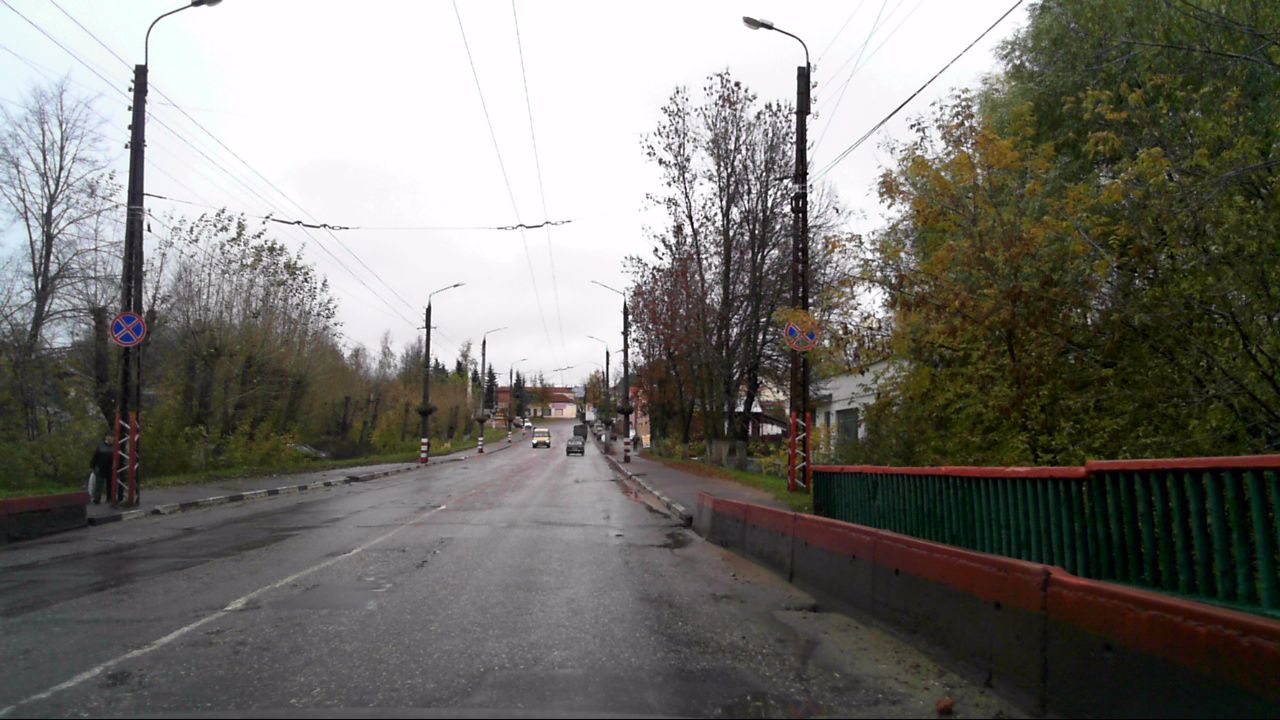No Parking: (781, 313, 823, 353)
